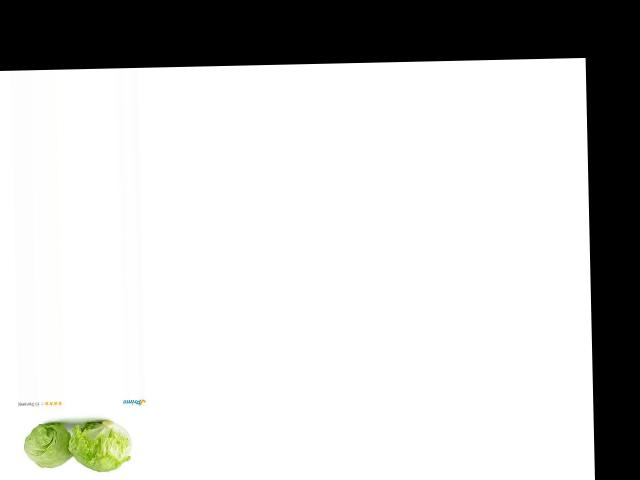lettuce: (21, 411, 86, 469)
